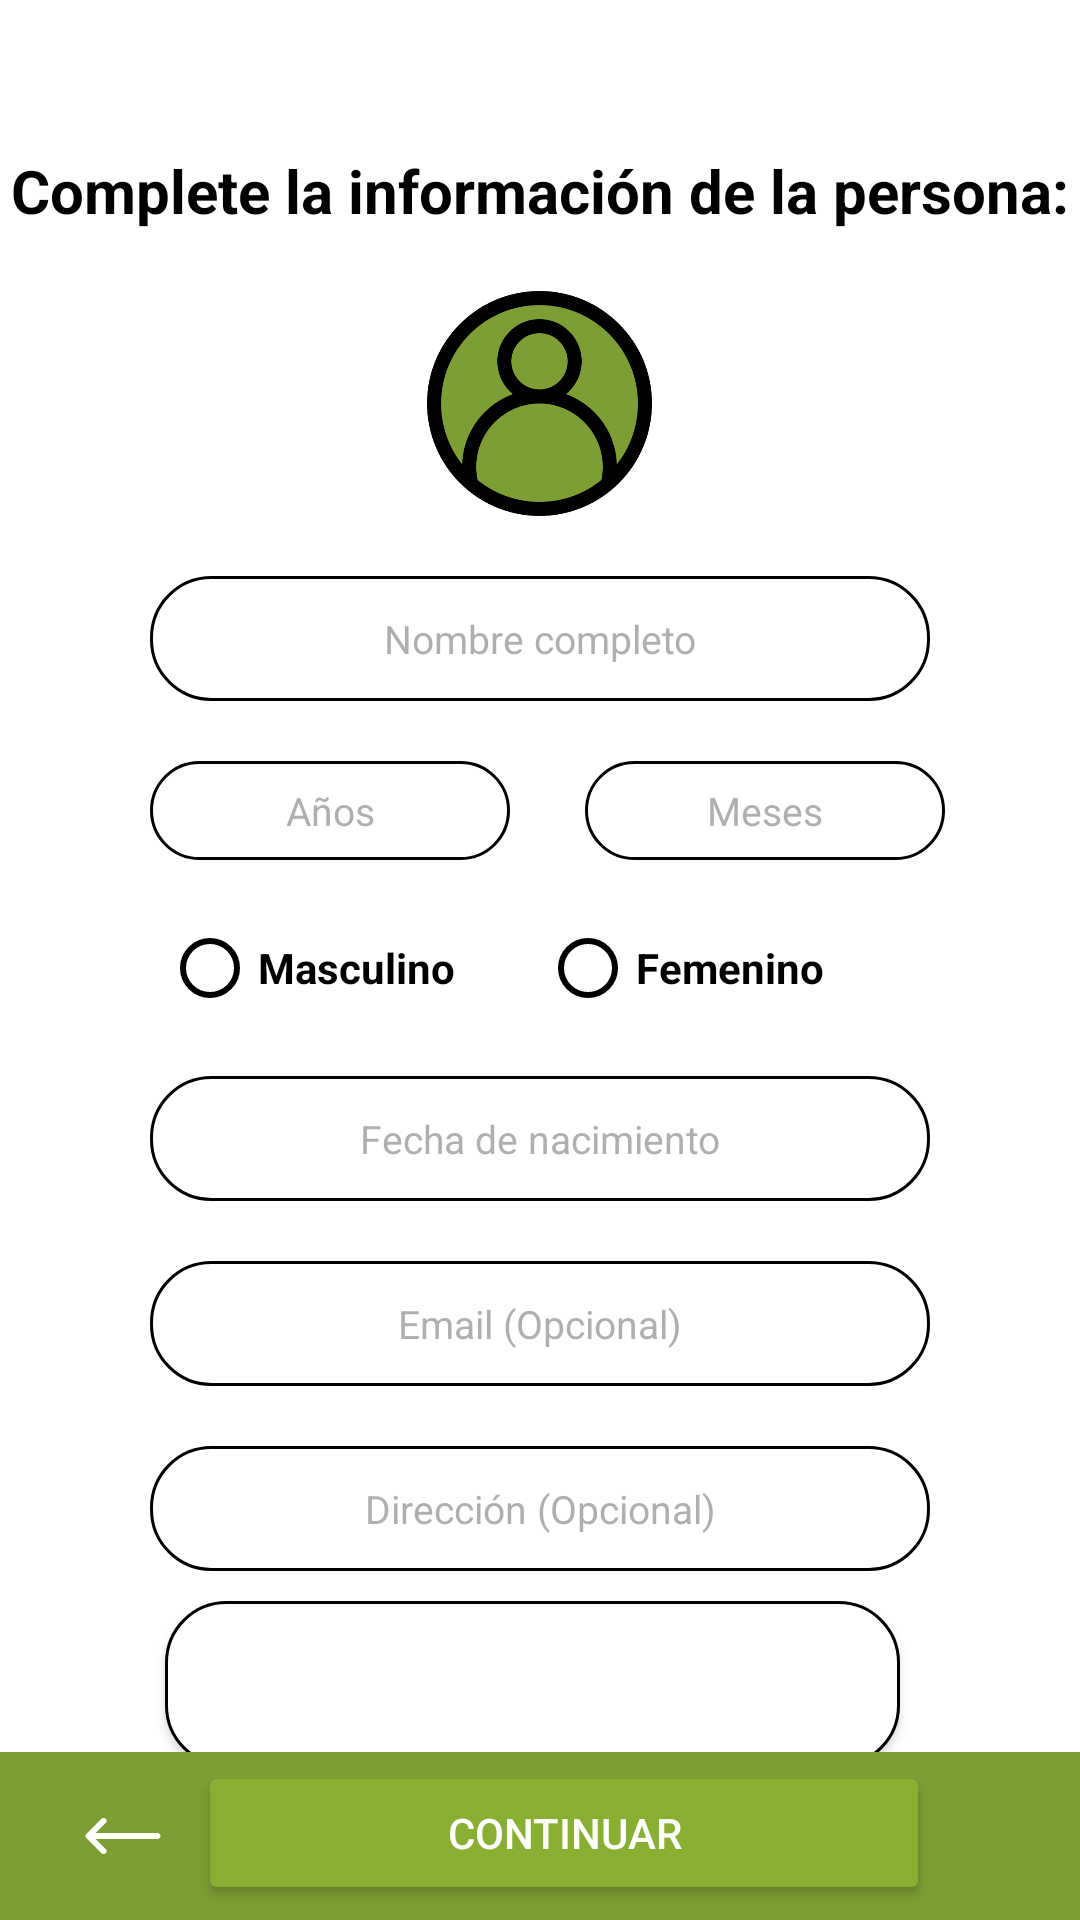

Screen size 1080px×1920px. Icon name, then its center in pixels as [x,y]:
registroadd: [539,403]
regresarflecha: [123,1836]
